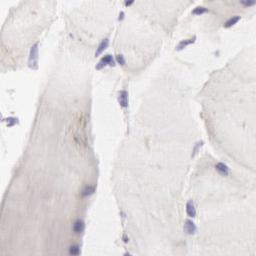nucleus: (95, 35, 111, 57), (176, 35, 196, 51), (116, 88, 130, 108), (184, 199, 198, 218), (28, 43, 38, 69), (191, 140, 204, 159), (96, 54, 113, 68), (223, 16, 241, 29), (184, 219, 197, 236), (215, 163, 230, 175), (81, 185, 95, 196), (73, 219, 84, 233), (191, 7, 209, 14), (6, 116, 18, 126), (69, 244, 82, 253), (121, 231, 131, 242), (239, 1, 256, 6), (117, 53, 124, 64), (119, 9, 124, 21), (124, 1, 136, 6), (123, 253, 132, 256)
